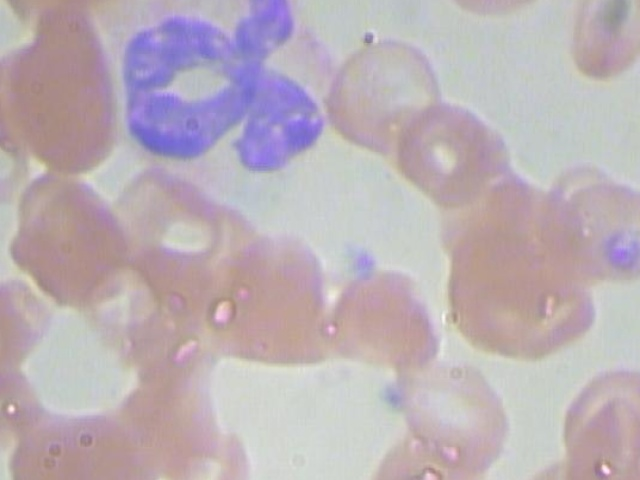Platelets: (342, 244, 385, 284)
RBC: (439, 219, 604, 370), (196, 226, 341, 369), (9, 0, 124, 176), (0, 163, 133, 306), (377, 345, 521, 471), (320, 29, 450, 156), (317, 264, 450, 380), (1, 401, 163, 480), (394, 94, 506, 204), (543, 173, 640, 288), (555, 388, 640, 480), (555, 0, 640, 84), (0, 70, 39, 212), (0, 341, 47, 450), (439, 0, 564, 25)
WBC: (94, 0, 354, 194)
